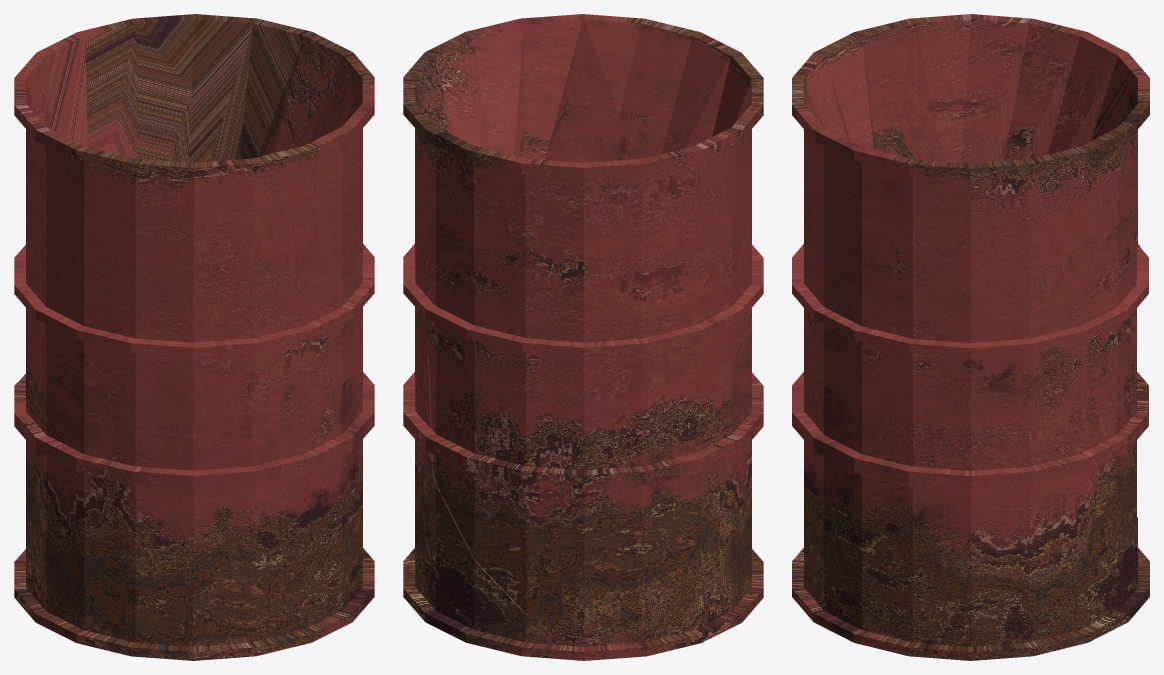
The model's file is Barril destruido.FBX.
3 views of the same model, side by side, from view 1: azimuth 30°, elevation 25°; view 2: azimuth 150°, elevation 25°; view 3: azimuth 270°, elevation 25° (orthographic).
Visible parts, largest first — view 1: Cylinder001_Part_4, Cylinder001_Part_1, Cylinder001_Part_7, Cylinder001_Part_3, Cylinder001_Part_9, Cylinder001_Part_5, Cylinder001_Part_2, Cylinder001_Part_8, Cylinder001_Part_10; view 2: Cylinder001_Part_3, Cylinder001_Part_6, Cylinder001_Part_1, Cylinder001_Part_10, Cylinder001_Part_4, Cylinder001_Part_5, Cylinder001_Part_2, Cylinder001_Part_9, Cylinder001_Part_7, Cylinder001_Part_8; view 3: Cylinder001_Part_1, Cylinder001_Part_8, Cylinder001_Part_3, Cylinder001_Part_2, Cylinder001_Part_4, Cylinder001_Part_6, Cylinder001_Part_7.
Boxes of the visible parts, bbox=[...] form: Cylinder001_Part_4: bbox=[62, 137, 329, 481]; Cylinder001_Part_1: bbox=[181, 14, 374, 511]; Cylinder001_Part_7: bbox=[14, 485, 356, 660]; Cylinder001_Part_3: bbox=[14, 14, 202, 392]; Cylinder001_Part_9: bbox=[21, 405, 272, 564]; Cylinder001_Part_5: bbox=[14, 340, 70, 433]; Cylinder001_Part_2: bbox=[338, 513, 374, 616]; Cylinder001_Part_8: bbox=[338, 366, 374, 541]; Cylinder001_Part_10: bbox=[14, 440, 32, 580]; Cylinder001_Part_3: bbox=[423, 105, 762, 382]; Cylinder001_Part_6: bbox=[420, 263, 645, 613]; Cylinder001_Part_1: bbox=[403, 14, 620, 339]; Cylinder001_Part_10: bbox=[527, 476, 705, 660]; Cylinder001_Part_4: bbox=[613, 16, 763, 377]; Cylinder001_Part_5: bbox=[556, 354, 744, 484]; Cylinder001_Part_2: bbox=[403, 469, 547, 657]; Cylinder001_Part_9: bbox=[695, 373, 763, 583]; Cylinder001_Part_7: bbox=[674, 522, 763, 648]; Cylinder001_Part_8: bbox=[403, 307, 432, 519]; Cylinder001_Part_1: bbox=[792, 115, 1125, 506]; Cylinder001_Part_8: bbox=[822, 357, 1119, 628]; Cylinder001_Part_3: bbox=[912, 14, 1149, 247]; Cylinder001_Part_2: bbox=[820, 478, 1149, 660]; Cylinder001_Part_4: bbox=[792, 18, 937, 393]; Cylinder001_Part_6: bbox=[1102, 242, 1148, 515]; Cylinder001_Part_7: bbox=[792, 457, 829, 625].
Bounding box in the file's own units: 133 × 197 × 130.
